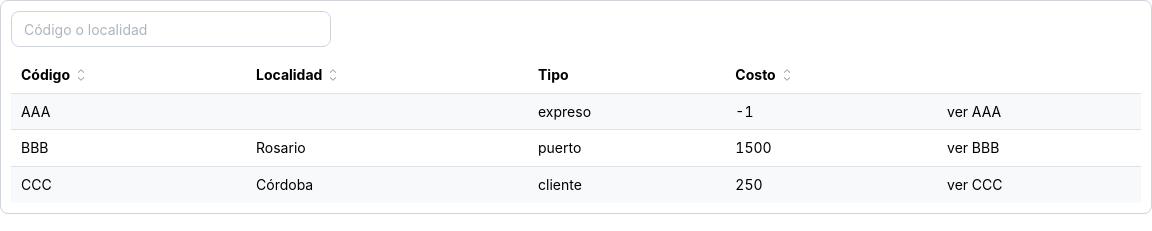
Test case: DataTable con buscador › busca en una columna nullable aunque la primera fila sea null
Type "rosario" into the field named "Buscar en la tabla".
click(171, 29); type("rosario")  # box x1=11 y1=11 x2=331 y2=47
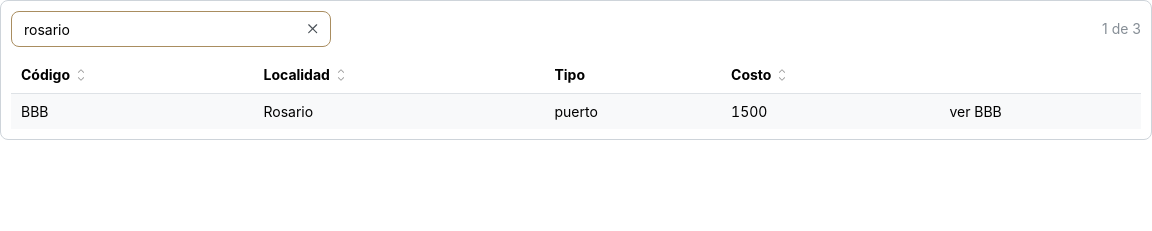
Expected: the text "BBB" is shown, x1=11 y1=93 x2=254 y2=129
Result: the text "AAA" is gone
Result: the text "CCC" is gone
